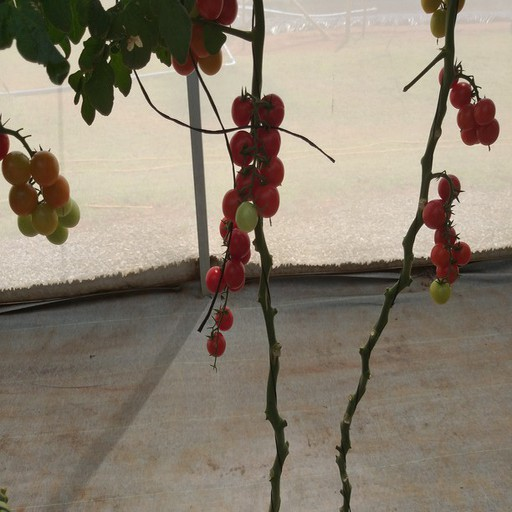green tomato bunch: (1, 123, 82, 245), (420, 1, 466, 38)
red tomato bunch: (206, 94, 284, 356), (423, 175, 471, 307), (165, 1, 238, 77), (438, 65, 500, 146)
